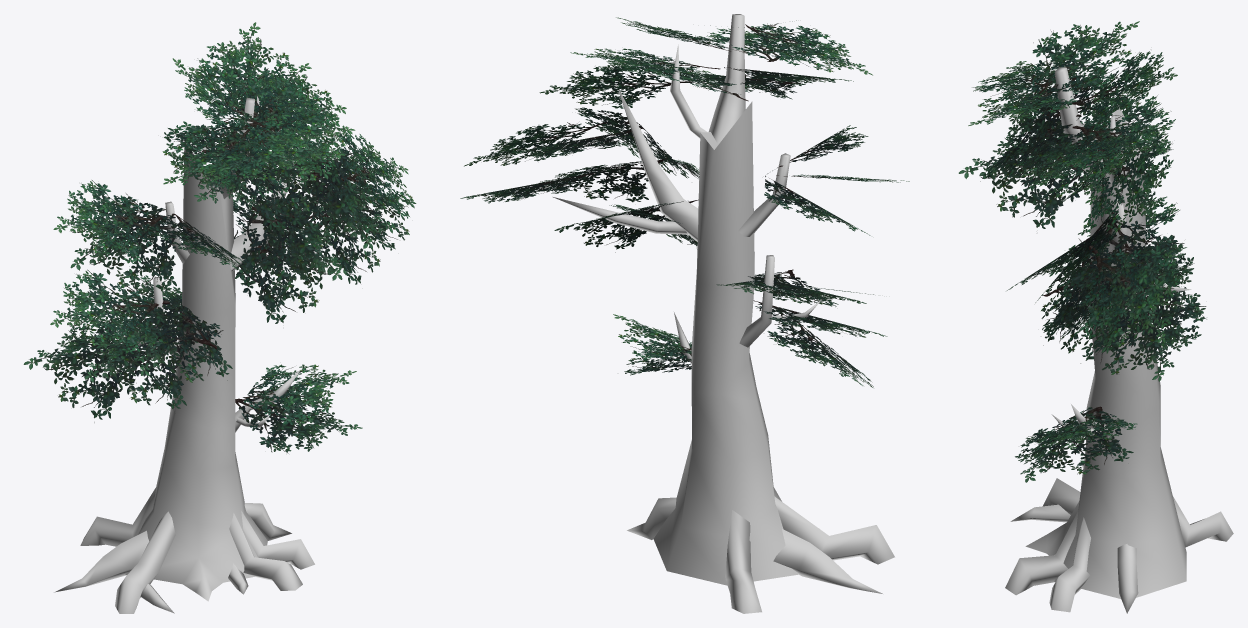
The model's file is yw_wanjiegu_dashu02.FBX.
3 renders of one model, left to right at view 1: azimuth 30°, elevation 25°; view 2: azimuth 150°, elevation 25°; view 3: azimuth 270°, elevation 25°, orthographic. The views are drawn at different scales.
Parts seen in each view (by area): view 1: yw_wanjiegu_dashu02; view 2: yw_wanjiegu_dashu02; view 3: yw_wanjiegu_dashu02.
Boxes of the visible parts, box(x1,y1,x2,y2) form: yw_wanjiegu_dashu02: box(23, 22, 416, 613); yw_wanjiegu_dashu02: box(460, 14, 909, 613); yw_wanjiegu_dashu02: box(958, 21, 1233, 613).
Size of the model in its own units: 816 by 975 by 464.
